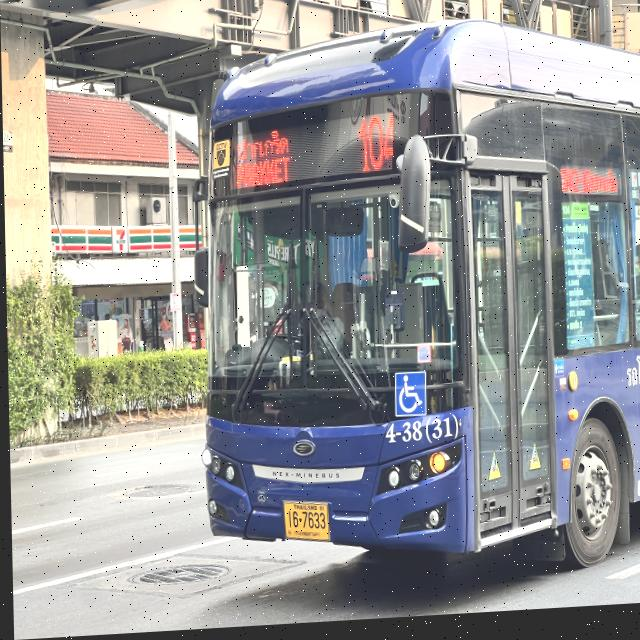Bus-Line-Number: (348, 108, 402, 183)
Destination-Sign-Normal: (229, 124, 297, 196)
TSB-Bus: (182, 4, 640, 606)
